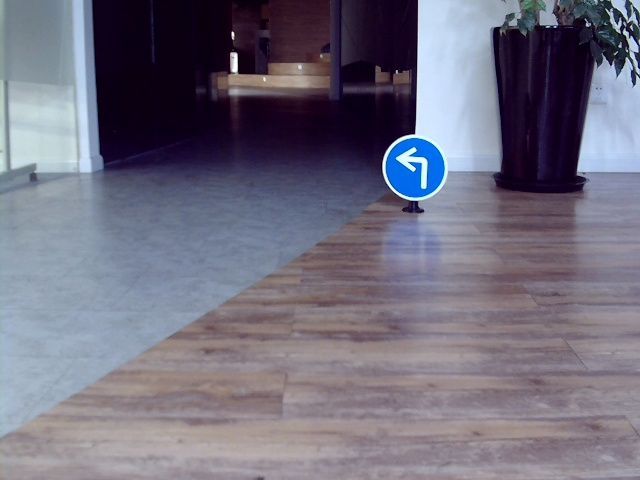turn_left: (395, 145, 433, 189)
